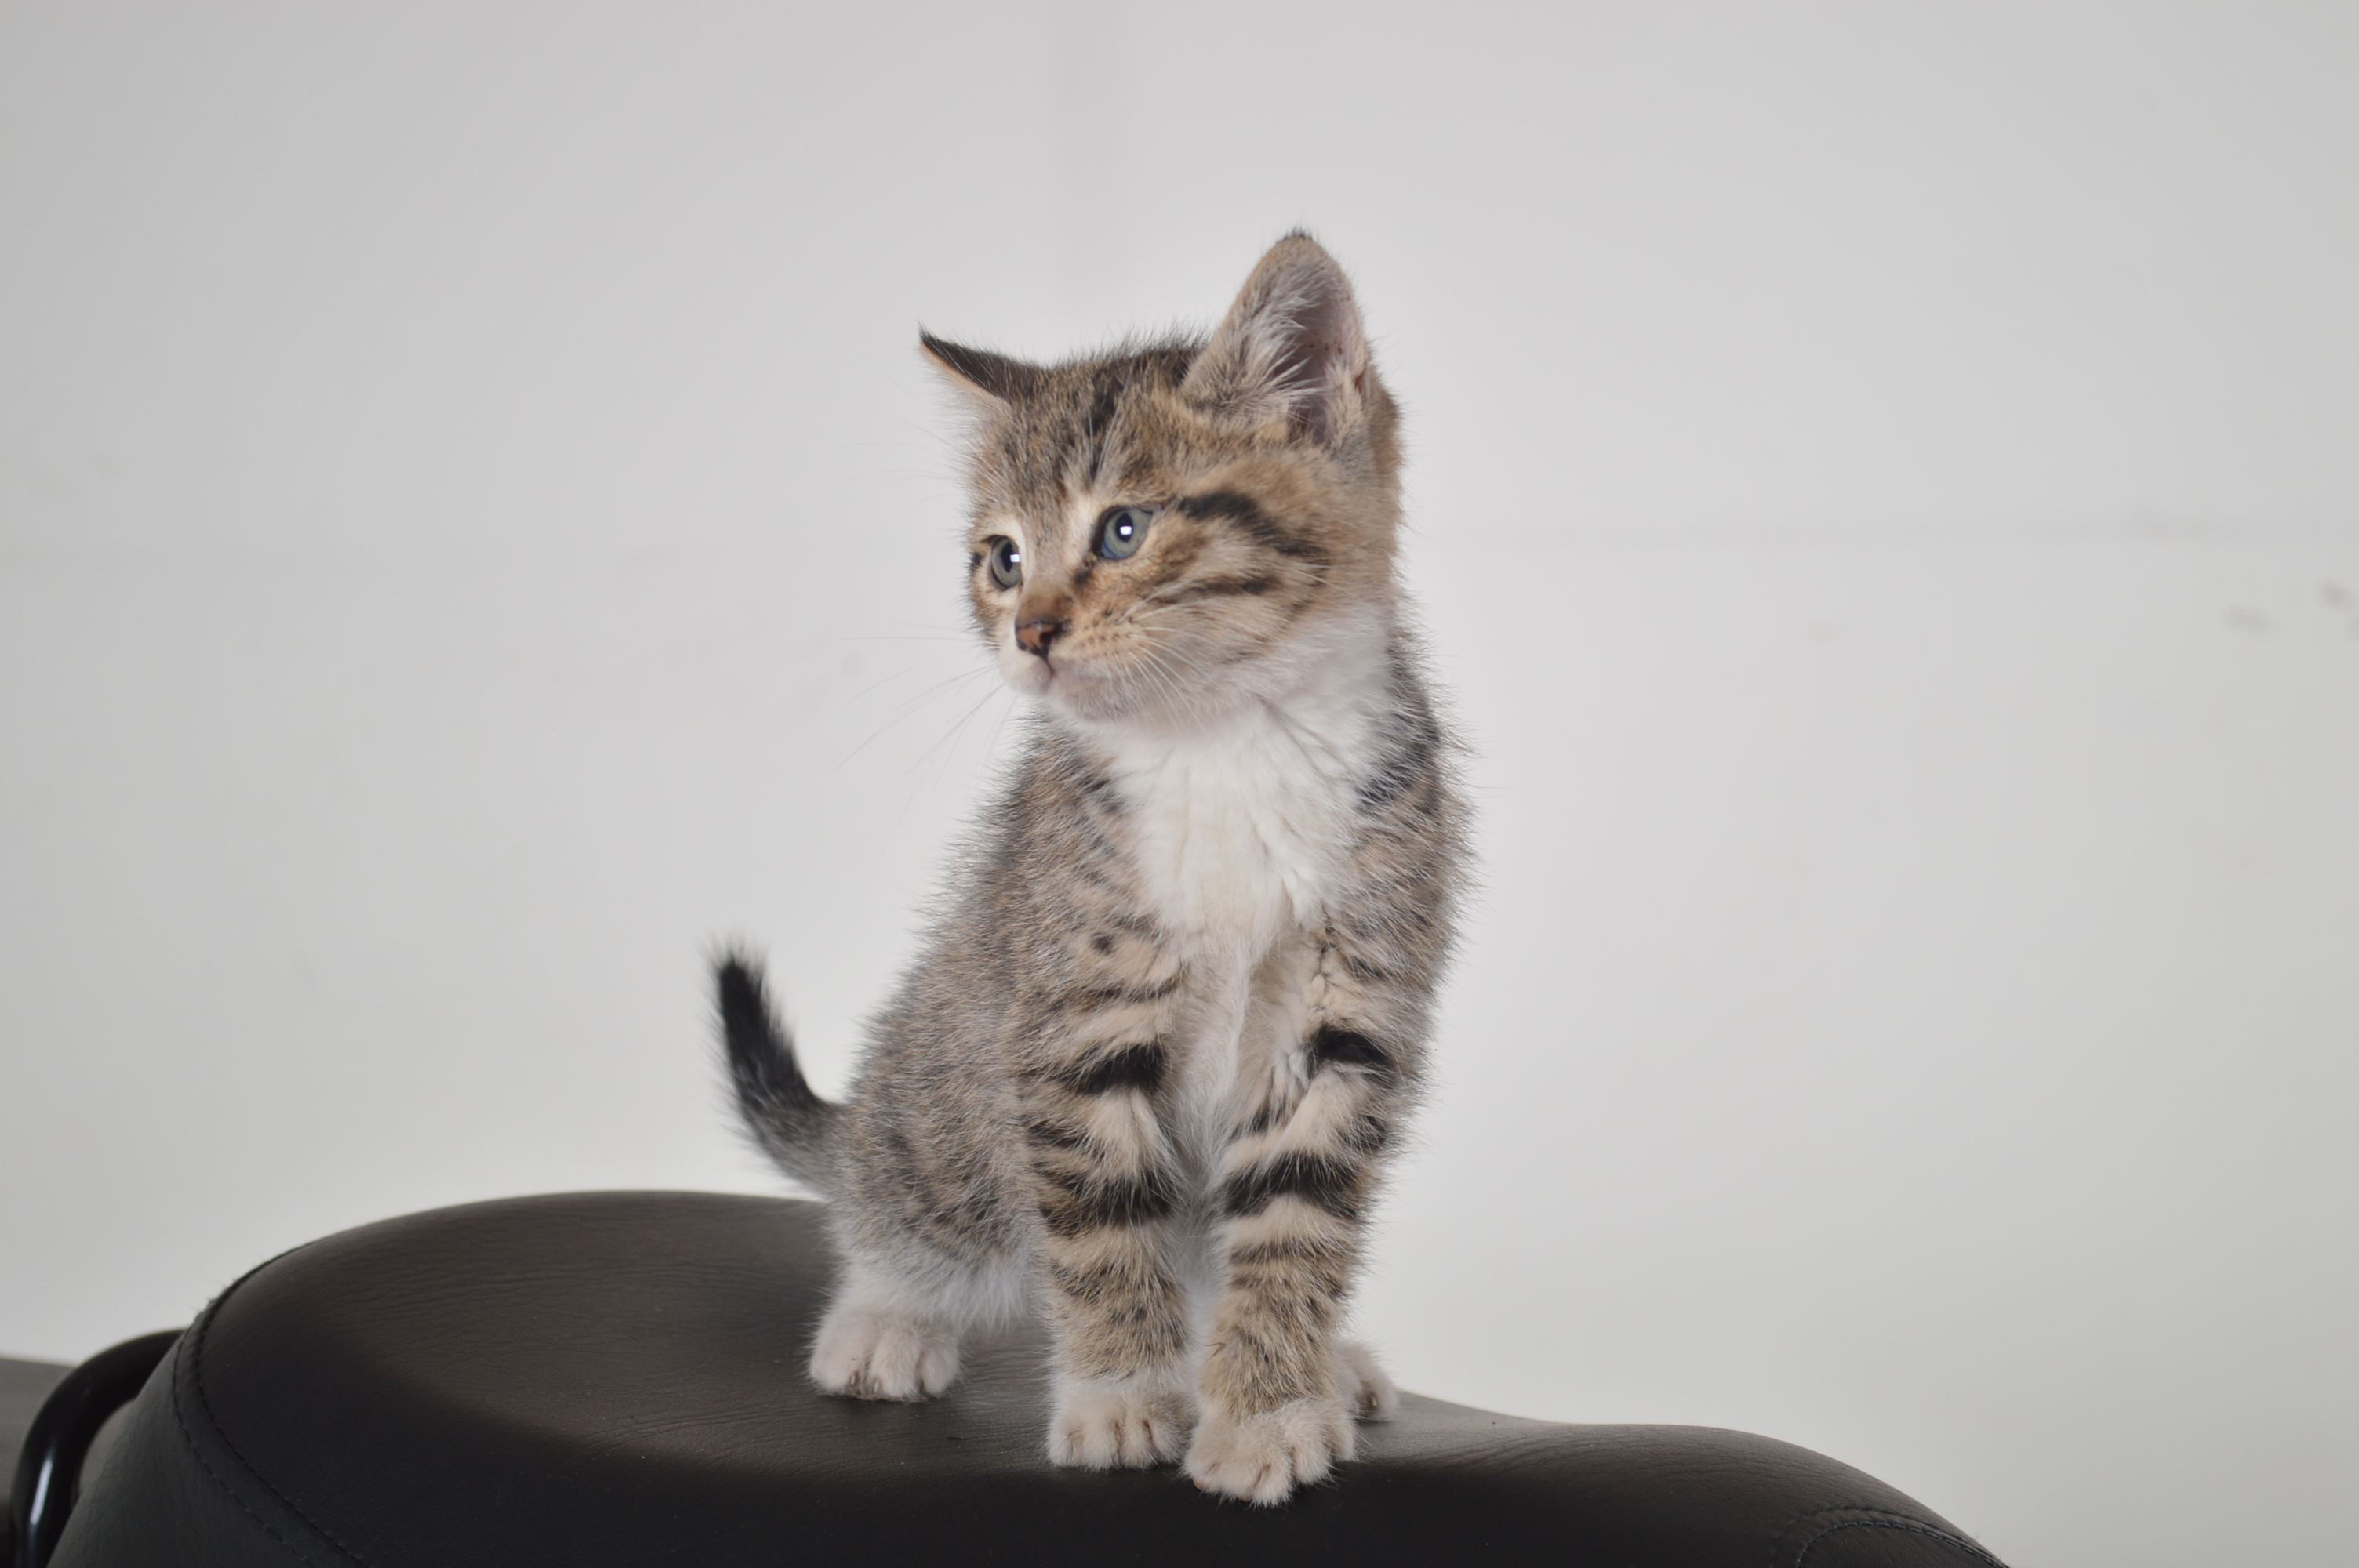cat: (710, 220, 1479, 1505)
